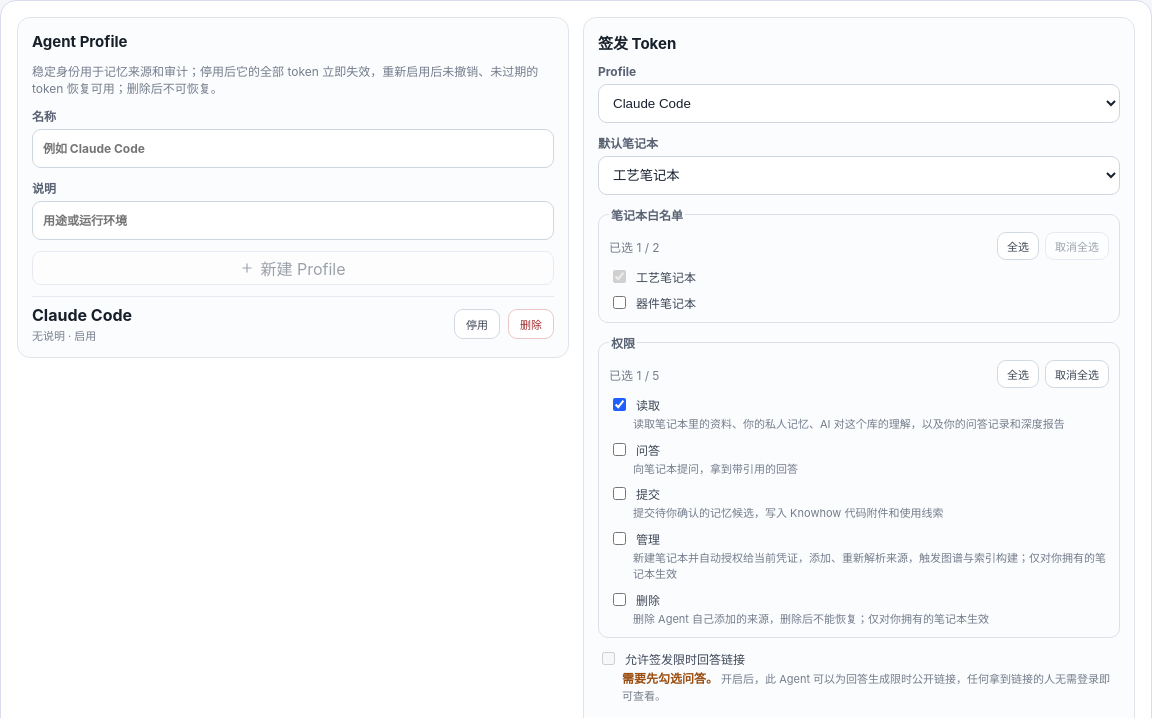
Scenario: 停用失败时原因落在该 Profile 行
Check: the text "Claude Code" is shown, box [32, 305, 132, 325]
Click the button "停用" at (477, 324), box [454, 309, 500, 339]
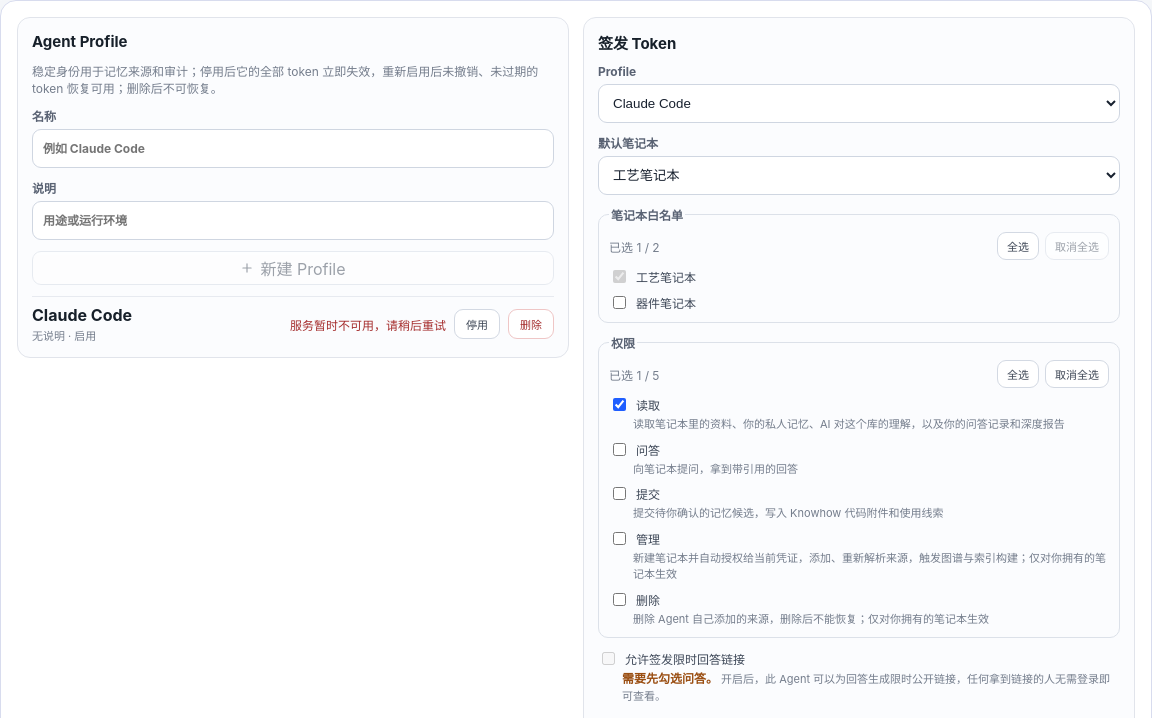
Check: the text "Claude Code" is shown, box [32, 305, 132, 325]
Check: the message shows "服务暂时不可用", box [290, 318, 446, 332]
